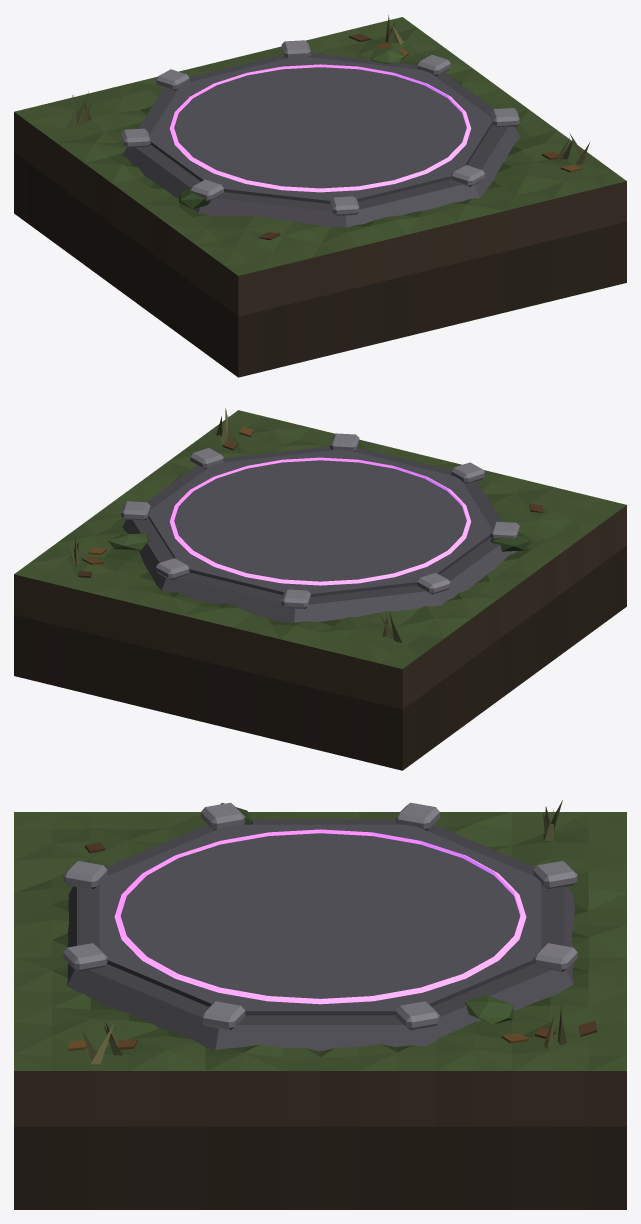
Rendered from haunt_plot.glb.
The picture shows the model from 3 angles, top to bottom: view 1: azimuth 30°, elevation 25°; view 2: azimuth 150°, elevation 25°; view 3: azimuth 270°, elevation 25°; orthographic projection. The views are drawn at different scales.
Visible parts, largest first — view 1: HauntPlot; view 2: HauntPlot; view 3: HauntPlot.
Part boxes in pixels (<box>): HauntPlot: <box>14,15,626,377</box>; HauntPlot: <box>14,408,626,770</box>; HauntPlot: <box>14,800,626,1209</box>.
Bounding box in the file's own units: 2 × 0.6449 × 2.
